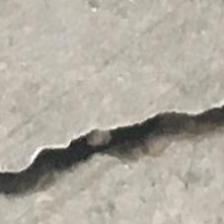Crack: (0, 91, 224, 213)
